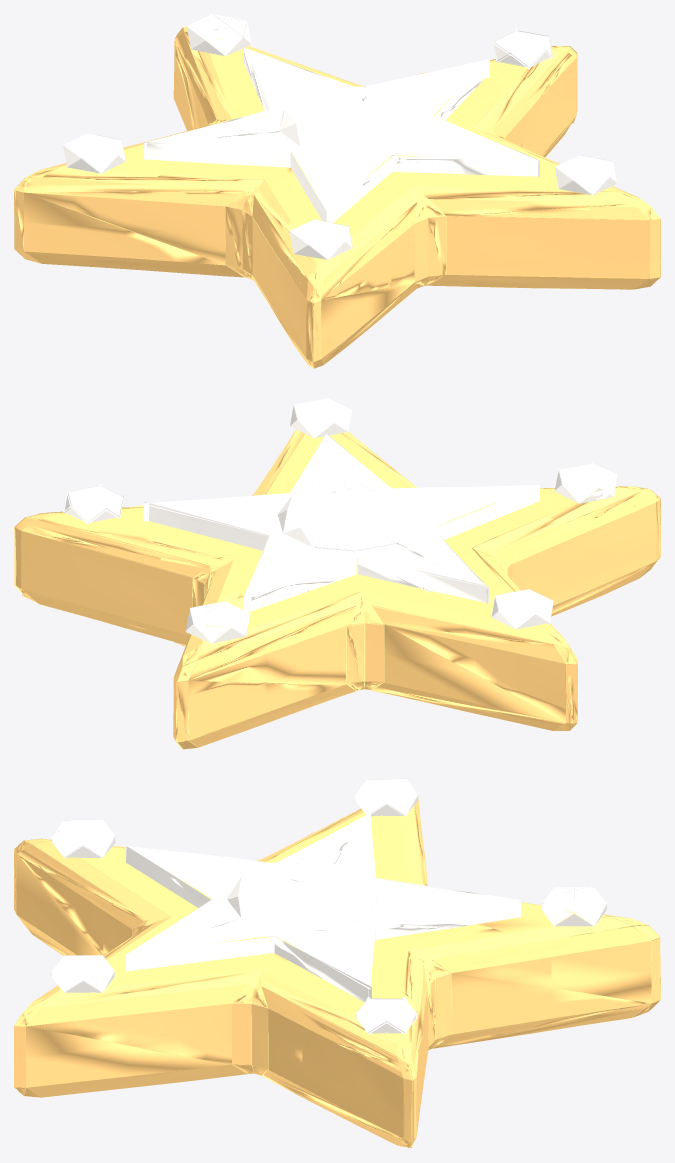
The model's file is xmas_gingerbread_star.glb.
The picture shows the model from 3 angles, top to bottom: view 1: azimuth 30°, elevation 25°; view 2: azimuth 150°, elevation 25°; view 3: azimuth 270°, elevation 25°; orthographic projection. The views are drawn at different scales.
Visible parts, largest first — view 1: GingerbreadStar; view 2: GingerbreadStar; view 3: GingerbreadStar.
Part boxes in pixels (x1,y1,x2,y2): GingerbreadStar: (14, 14, 660, 368); GingerbreadStar: (14, 397, 660, 749); GingerbreadStar: (14, 778, 660, 1147).
Bounding box in the file's own units: 1.8 × 0.4343 × 1.72.
